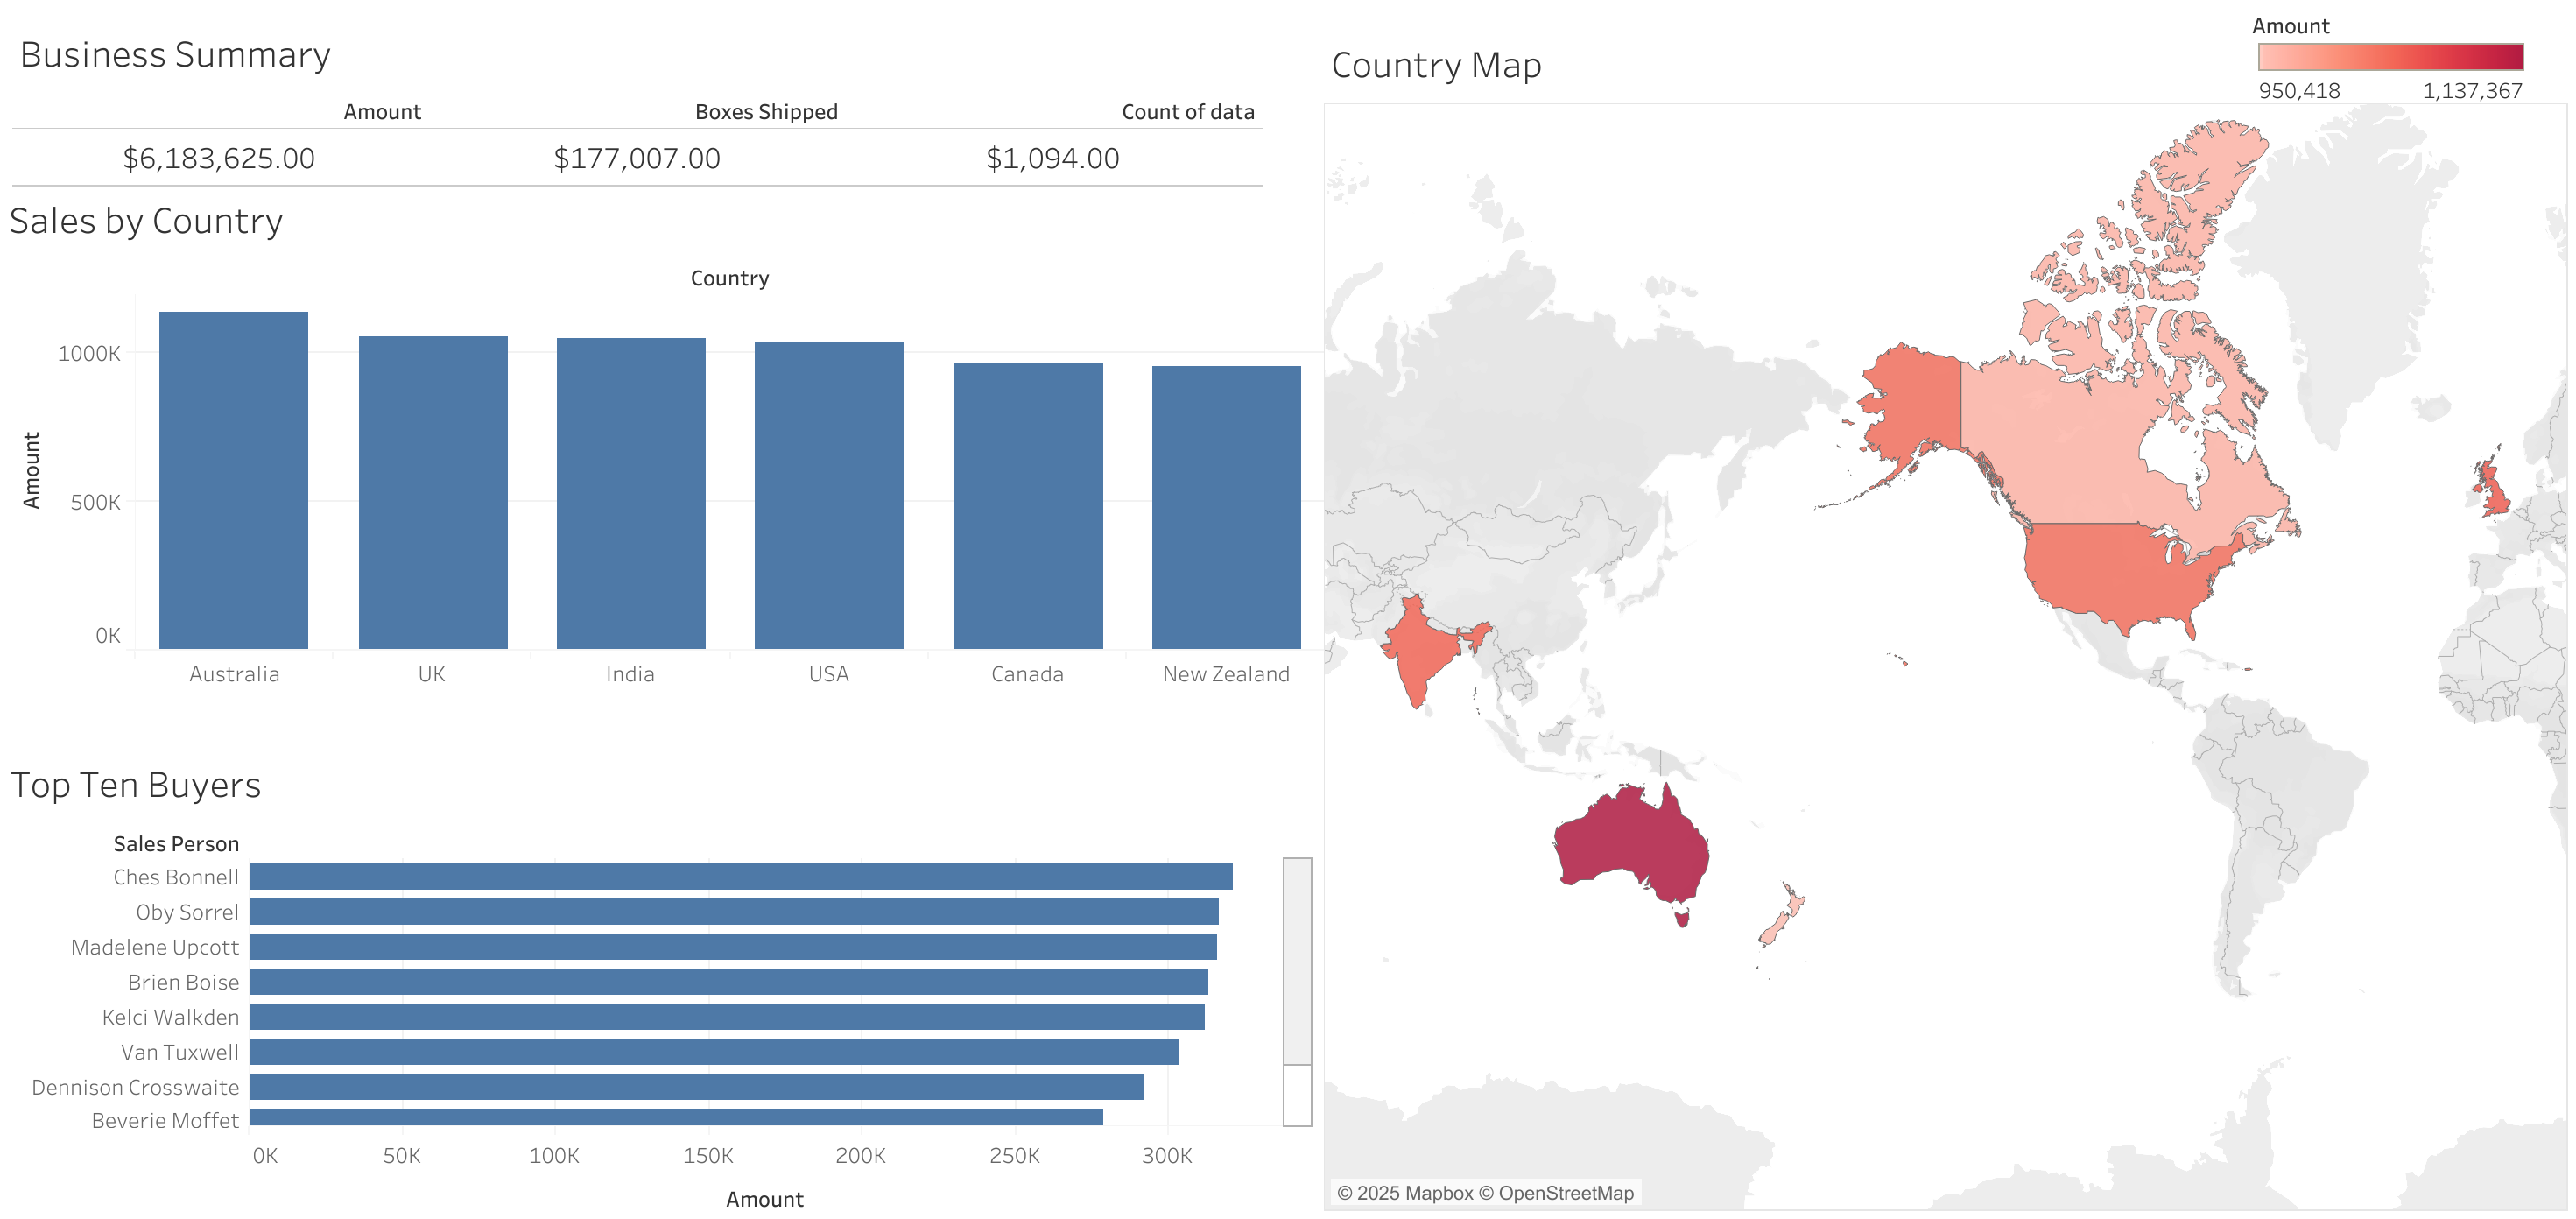

The page's visual inventory and layout, read from the dashboard file:
{"tool":"tableau","page":{"name":"Chocolate Business Dashboard","canvas":[1000,1000],"units":"permille","ordinal":0},"visuals":[{"type":"legend","title":"Country Map","param":"[federated.00y8lkf08q3yf317oy8p60lfb6vi].[sum:Amount:qk]","box":[873.6,1.5,108.6,82.5]},{"type":"worksheet","title":"Business Summary","mark":"Automatic","box":[4.7,15,485.7,137.9]},{"type":"worksheet","title":"Country Map","mark":"Automatic","box":[513.6,22.5,483.3,970]},{"type":"worksheet","title":"Sales by Country","mark":"Automatic","rows":["Amount"],"cols":["Country"],"box":[0.8,149.9,513.6,439.3]},{"type":"worksheet","title":"Top Ten Buyers","mark":"Automatic","rows":["Sales Person"],"cols":["Amount"],"box":[1.6,613.2,508.2,391.3]}]}

Visuals, with their boxes on the dashboard's canvas, which has no fixed pixel size, in thousandths of its width and height (x1, y1, x2, y2). These are canvas units, not pixel positions in the 2576x1219 screenshot, which may show the page scaled, cropped or inside an application window:
"Country Map" legend: box=[874, 2, 982, 84]
"Business Summary" worksheet: box=[5, 15, 490, 153]
"Country Map" worksheet: box=[514, 22, 997, 992]
"Sales by Country" worksheet: box=[1, 150, 514, 589]
"Top Ten Buyers" worksheet: box=[2, 613, 510, 1004]
